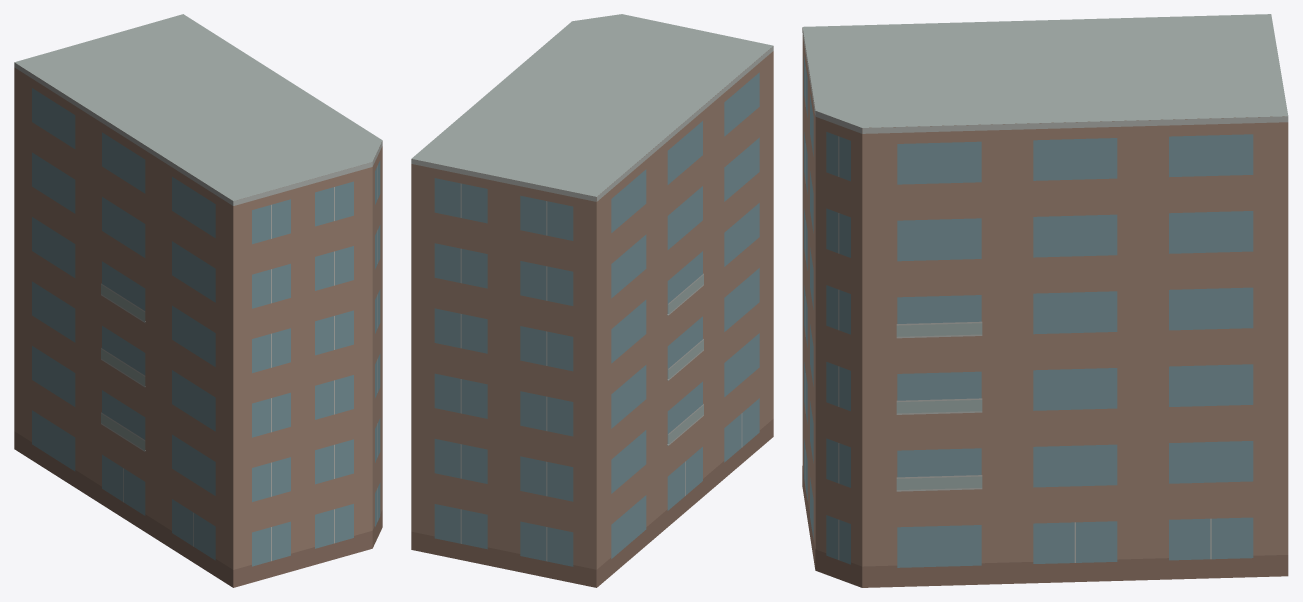
The model's file is survey-upis-32982452.glb.
3 renders of one model, left to right at view 1: azimuth 30°, elevation 25°; view 2: azimuth 150°, elevation 25°; view 3: azimuth 270°, elevation 25°, orthographic. The views are drawn at different scales.
Visible parts, largest first — view 1: survey-upis-32982452.tmp; view 2: survey-upis-32982452.tmp; view 3: survey-upis-32982452.tmp.
Part boxes in pixels (<box>): survey-upis-32982452.tmp: <box>14,14,382,587</box>; survey-upis-32982452.tmp: <box>411,14,773,587</box>; survey-upis-32982452.tmp: <box>802,14,1288,587</box>.
Bounding box in the file's own units: 10.05 × 18.9 × 18.11.
